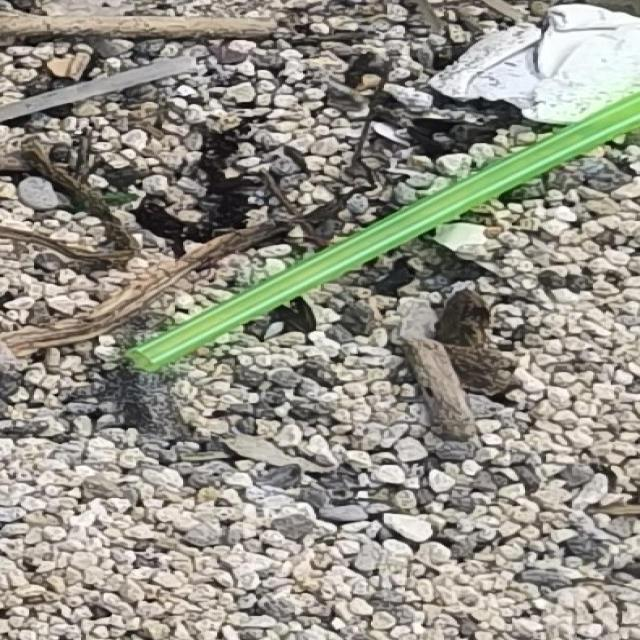plastic_waste: (124, 93, 640, 375)
